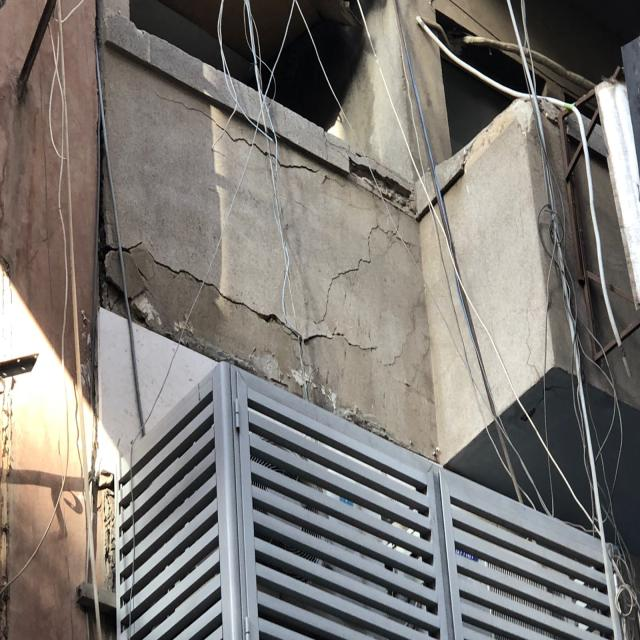concrete spalling: (350, 163, 428, 224), (96, 261, 145, 327), (101, 469, 118, 594)
diagonal crack: (304, 216, 421, 326), (388, 300, 435, 398)
horizontal crack: (109, 222, 387, 362), (147, 80, 340, 185)
vertical crack: (505, 255, 545, 388)
